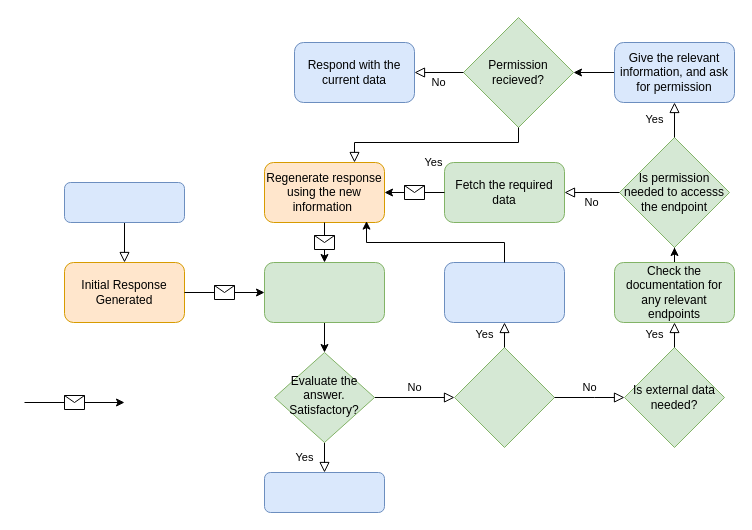
The diagram is 752 pixels wide and 530 high, and some of its shapes have lost their labels. Here are the shapes that lost their labels. From the top down, the centre of each, then its label:
At [124,202]: "User Input".
At [324,292]: "Response sent to the overseer model".
At [504,292]: "Prompt user for additional information".
At [504,397]: "Is clarification needed?".
At [324,492]: "Send the output to the user".
